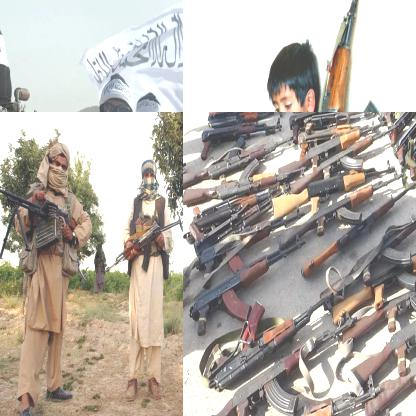rifle: (183, 325, 348, 415), (210, 290, 333, 390), (189, 235, 307, 335), (298, 183, 415, 278), (322, 200, 415, 306), (296, 0, 384, 111), (332, 227, 415, 327), (183, 375, 381, 415), (185, 375, 377, 415), (351, 269, 415, 388), (339, 248, 415, 346), (0, 170, 79, 250), (294, 128, 392, 191), (362, 299, 415, 415), (188, 152, 303, 205), (275, 121, 371, 177), (102, 218, 182, 280), (183, 140, 268, 189), (197, 120, 286, 161), (395, 112, 415, 155)
